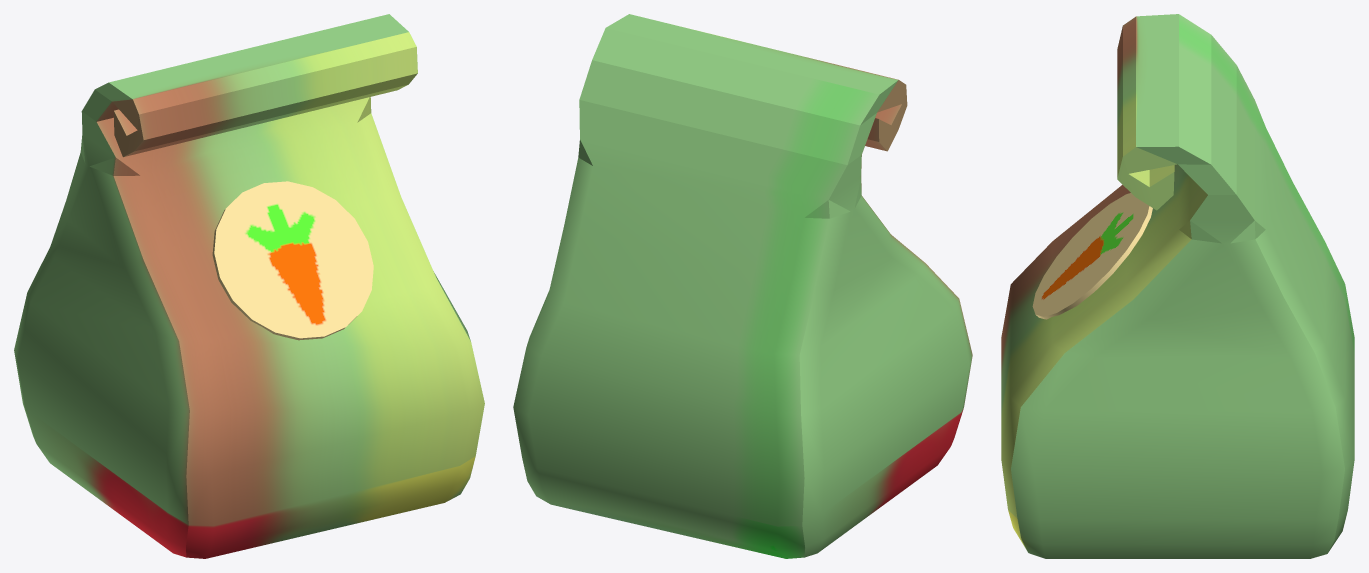
The model's file is tomato2.fbx.
3 renders of one model, left to right at view 1: azimuth 30°, elevation 25°; view 2: azimuth 150°, elevation 25°; view 3: azimuth 270°, elevation 25°, orthographic. The views are drawn at different scales.
Parts seen in each view (by area): view 1: pCube1, pCylinder1; view 2: pCube1; view 3: pCube1, pCylinder1.
Part boxes in pixels (x1,y1,x2,y2): pCube1: (14,14,484,558); pCylinder1: (212,181,373,340); pCube1: (513,14,972,558); pCube1: (1001,14,1354,558); pCylinder1: (1032,193,1152,319).
Size of the model in its own units: 1.09 by 1.44 by 1.09.
